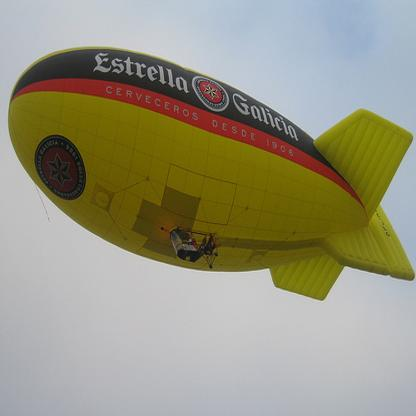Airship: (7, 47, 415, 304)
